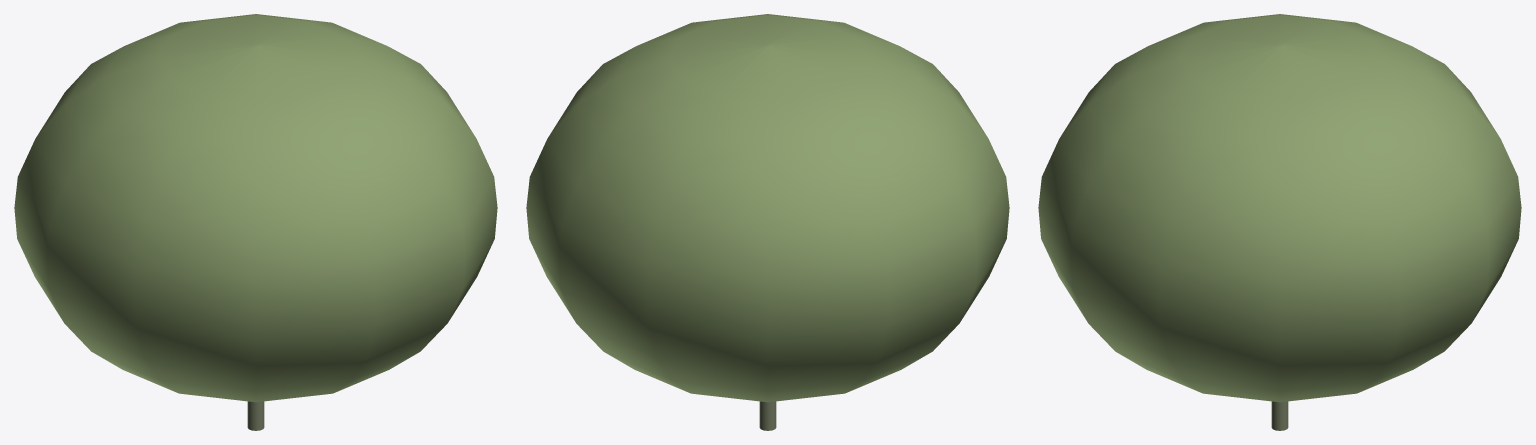
The model's file is Witch_Hazel_Analytical_0.obj.
The picture shows the model from 3 angles, left to right: view 1: azimuth 30°, elevation 25°; view 2: azimuth 150°, elevation 25°; view 3: azimuth 270°, elevation 25°; orthographic projection.
Parts seen in each view (by area): view 1: AnalyticalCrown, AnalyticalTrunk; view 2: AnalyticalCrown, AnalyticalTrunk; view 3: AnalyticalCrown, AnalyticalTrunk.
Boxes of the visible parts, x1,y1,x2,y2 form: AnalyticalCrown: (14,14,497,402); AnalyticalTrunk: (247,401,264,430); AnalyticalCrown: (526,14,1009,402); AnalyticalTrunk: (759,401,776,430); AnalyticalCrown: (1038,14,1521,402); AnalyticalTrunk: (1271,401,1288,430).
Bounding box in the file's own units: 3.44 × 3 × 3.44.
